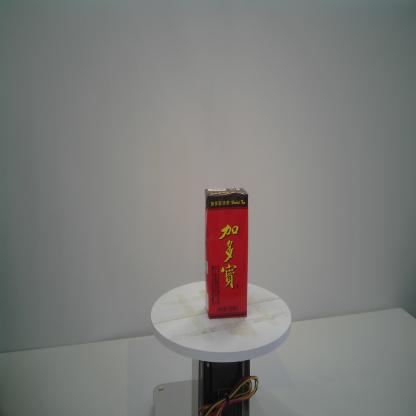Drink: (202, 186, 249, 320)
